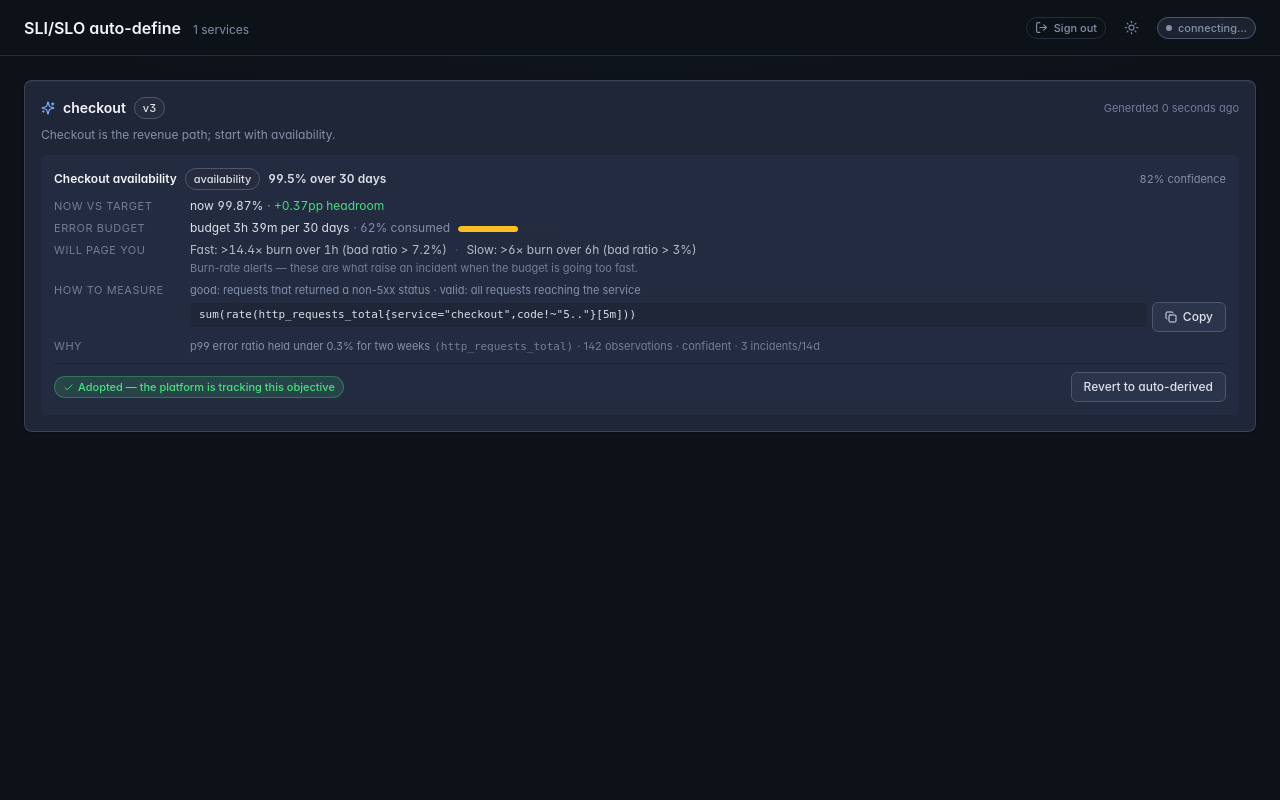
Scenario: SLORecommendationsPage — revert to auto-derived › surfaces the server's message when there is nothing to revert
Click the button with test id "slo-unadopt-btn" at [1148, 387], box top-left (1070, 372), bottom-right (1226, 402)
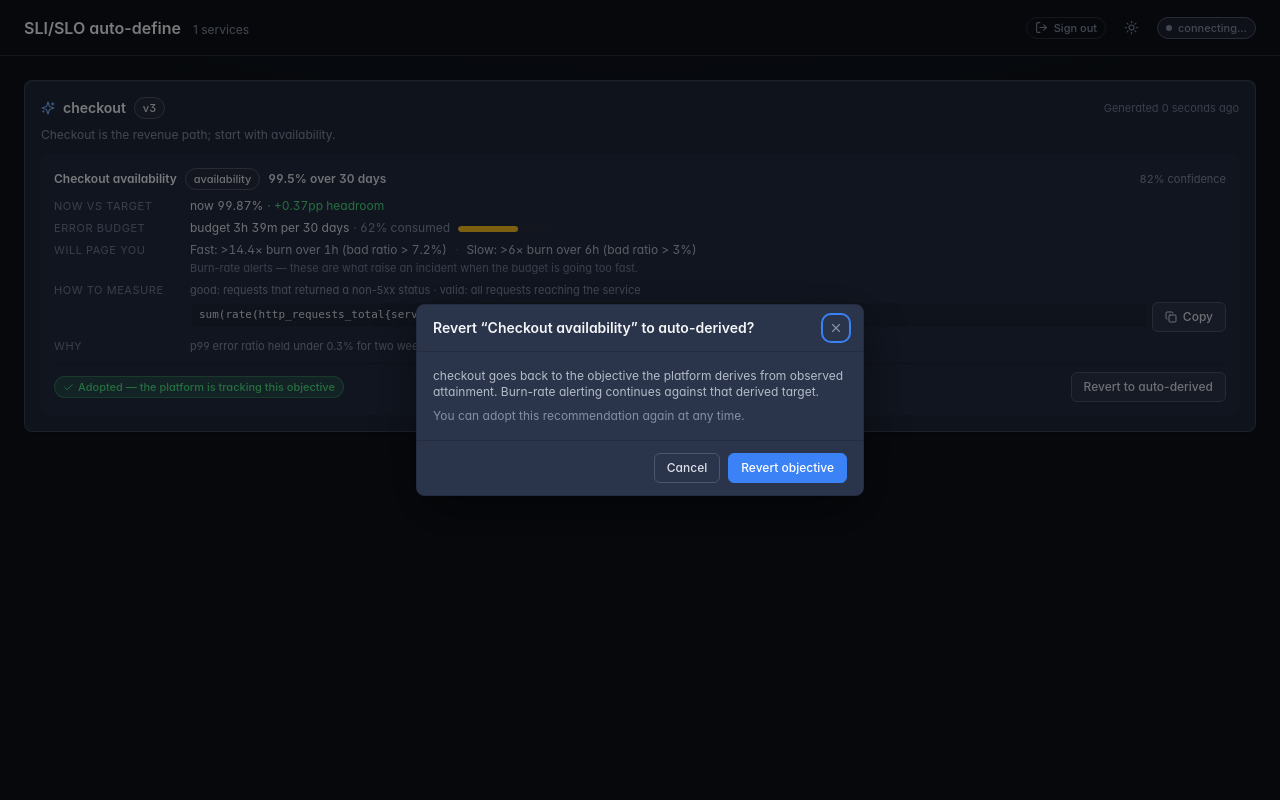
Click the button "Revert objective" at [788, 468], box top-left (728, 453), bottom-right (847, 483)
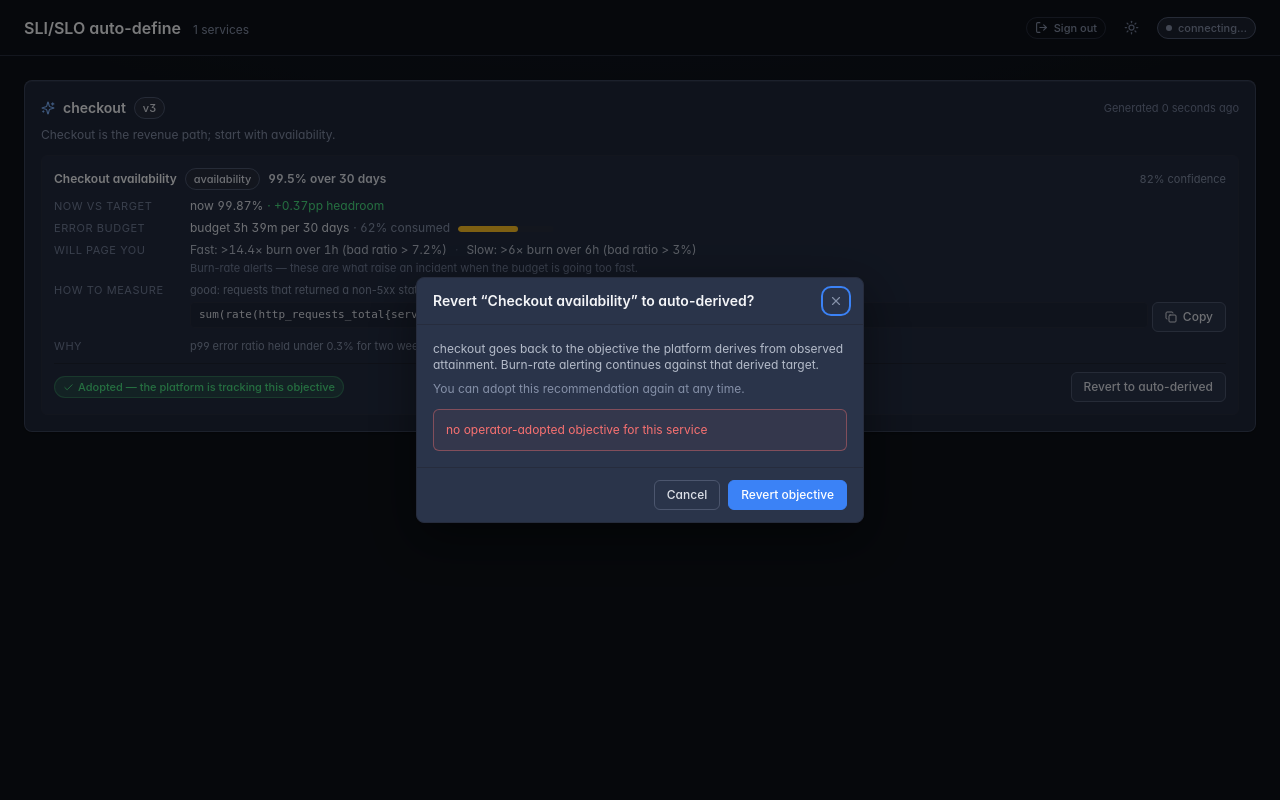
Check: the text "no operator-adopted objective for this service" is shown, box top-left (433, 409), bottom-right (847, 451)
